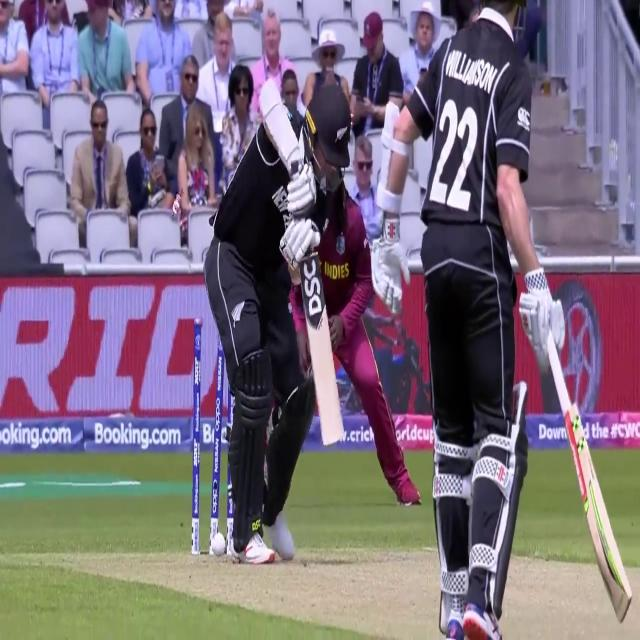ball: (211, 527, 229, 560)
